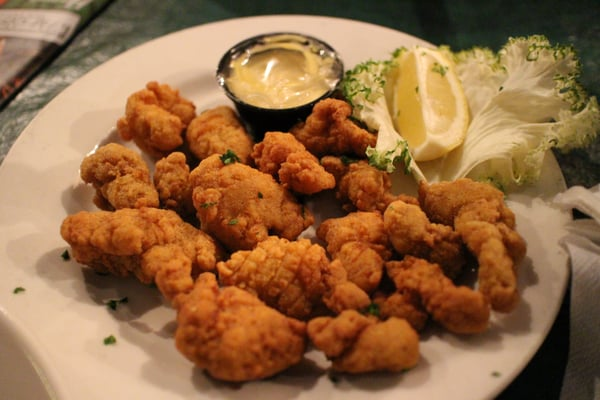curry: (449, 34, 600, 192)
taco: (388, 47, 471, 162)
